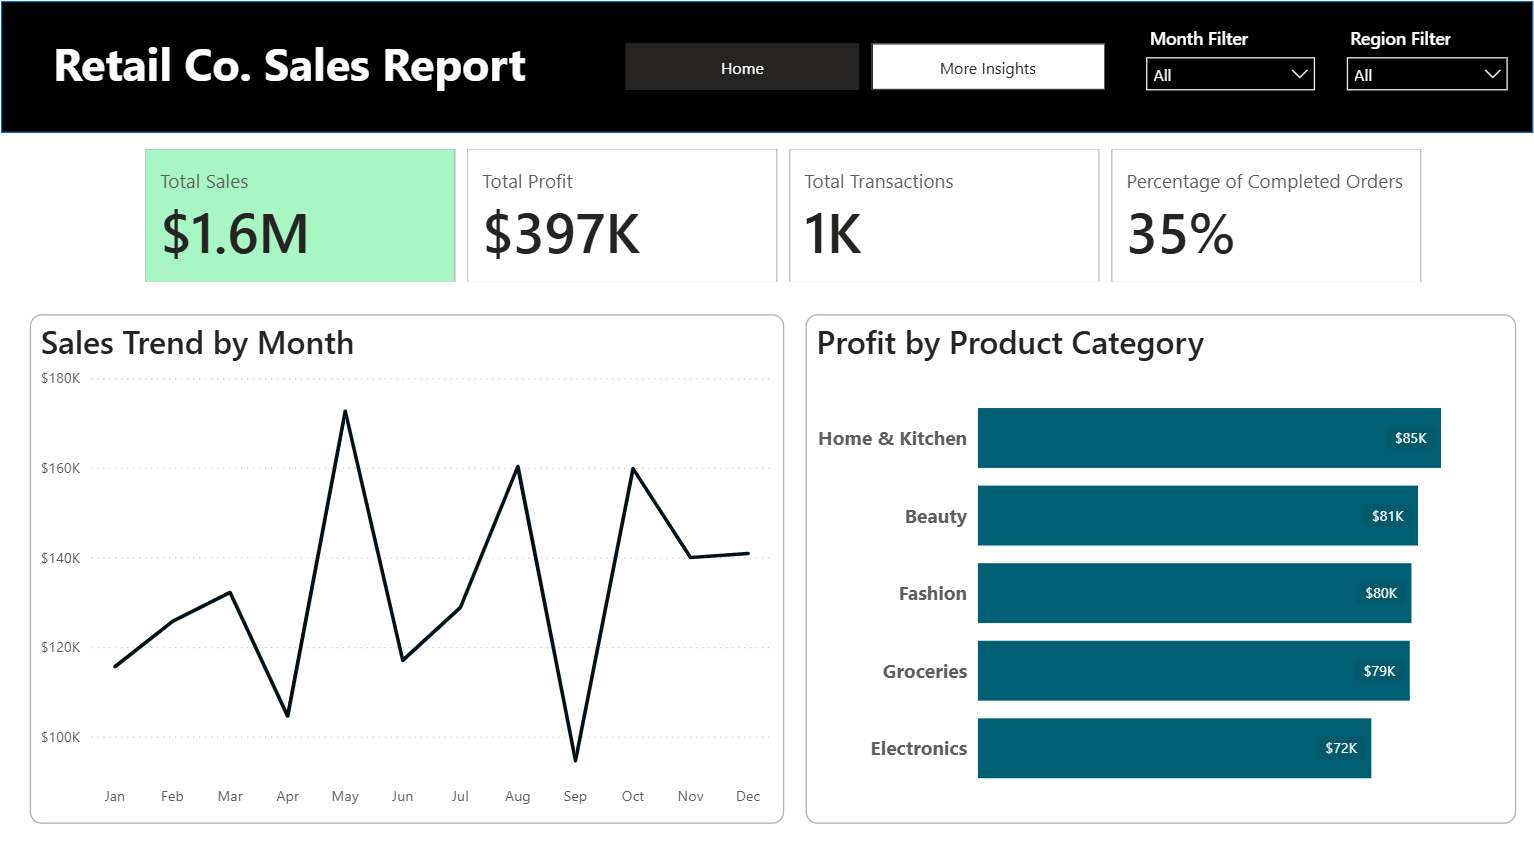

What the dashboard file says about the page in this screenshot:
{"tool":"powerbi","page":{"name":"Home","canvas":[1280,720],"ordinal":0},"visuals":[{"type":"shape","box":[0,0,1280,231.4],"z":0},{"type":"cardVisual","fields":{"Data":["_Measures.Total Sales","_Measures.Total Profit","_Measures.Total Transactions","_Measures.Completed Orders %"]},"box":[120,127.5,1065,151.2],"z":1000},{"type":"slicer","fields":{"Values":["Sales.Region"]},"box":[963.1,15.5,148.3,71.7],"z":2000},{"type":"slicer","fields":{"Values":["DateTable.Month Name"]},"box":[1113.3,15.5,143.4,71.7],"z":3000},{"type":"lineChart","title":"Sales Trend by Month","fields":{"Y":["Sum(Sales.Sales Amount)"],"Category":["DateTable.Month Name"]},"box":[21.2,288.2,630.9,414],"z":4000},{"type":"barChart","title":"Sales by Product Category","fields":{"Y":["Sum(Sales.Profit)"],"Category":["Sales.Product Category"]},"box":[664.3,288.2,605.1,414],"z":5000},{"type":"pageNavigator","box":[552.3,36.8,367.2,71.7],"z":6000},{"type":"textbox","box":[30,15.5,504.8,71.7],"z":7000}]}

Visuals, with their boxes in screenshot pixels (x1, y1, x2, y2), scaled from the page's 1280x720 canvas onto the 1534x846 screenshot:
shape: rect(0, 0, 1533, 272)
cardVisual - _Measures.Total Sales x _Measures.Total Profit: rect(144, 150, 1420, 327)
slicer - Sales.Region: rect(1154, 18, 1332, 102)
slicer - DateTable.Month Name: rect(1334, 18, 1506, 102)
"Sales Trend by Month" lineChart: rect(25, 339, 782, 825)
"Sales by Product Category" barChart: rect(796, 339, 1521, 825)
pageNavigator: rect(662, 43, 1102, 127)
textbox: rect(36, 18, 641, 102)
